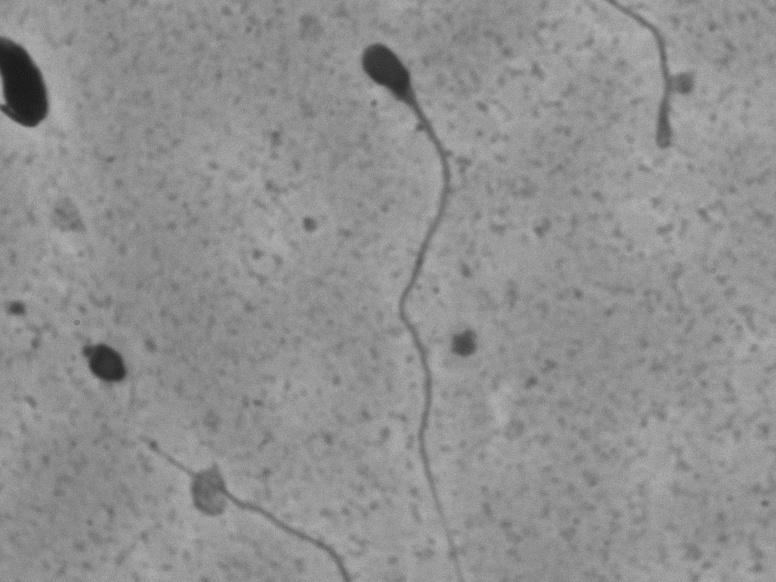Abnormal: (342, 28, 496, 555)
